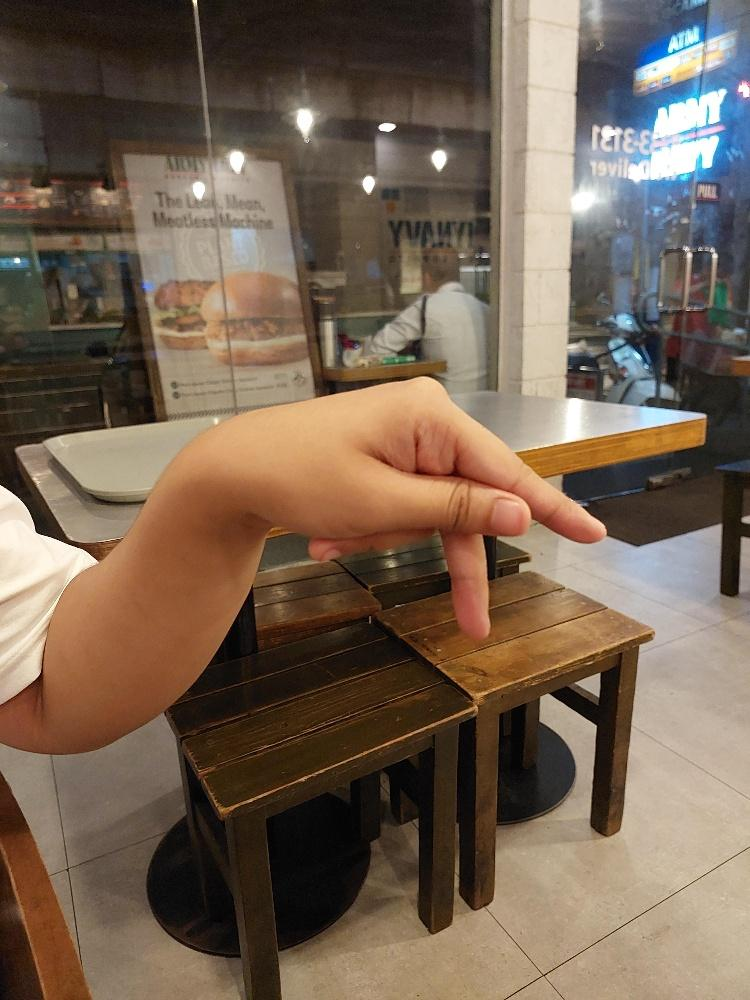p: (243, 372, 607, 640)
